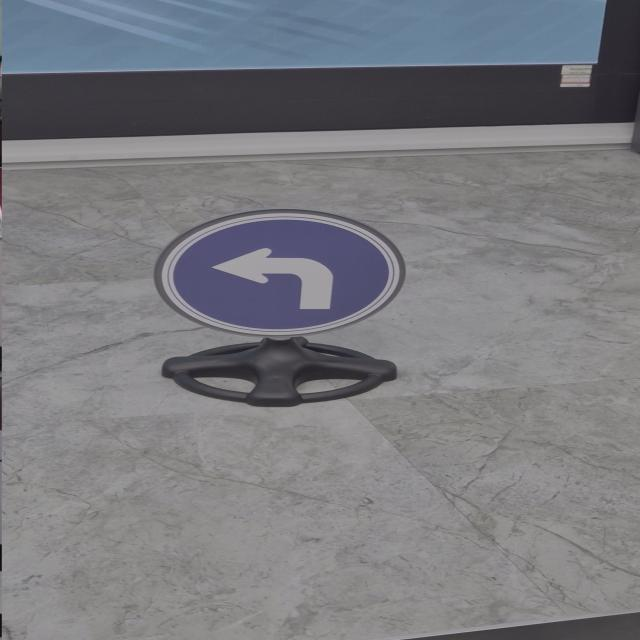left_direction: (142, 206, 422, 338)
